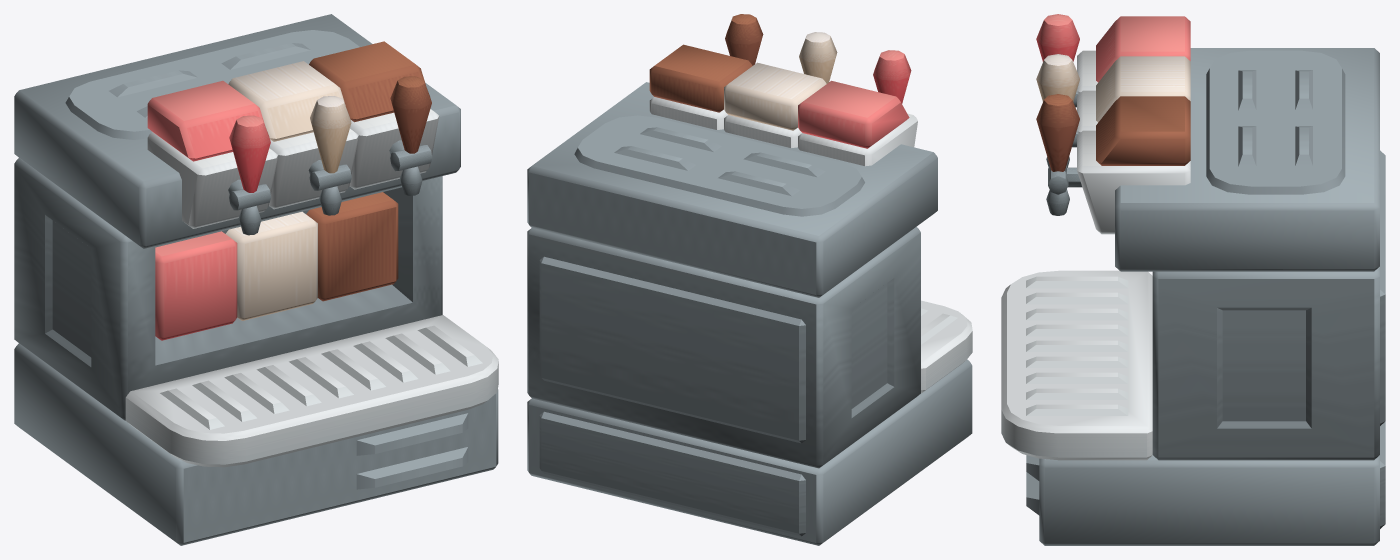
File: restaurant-icecream-machine.gltf
3 renders of one model, left to right at view 1: azimuth 30°, elevation 25°; view 2: azimuth 150°, elevation 25°; view 3: azimuth 270°, elevation 25°, orthographic. The views are drawn at different scales.
Visible parts, largest first — view 1: icecream_machine, icecream_machine_handle_strawberry, icecream_machine_handle_chocolate, icecream_machine_handle_vanilla; view 2: icecream_machine, icecream_machine_handle_strawberry, icecream_machine_handle_chocolate, icecream_machine_handle_vanilla; view 3: icecream_machine, icecream_machine_handle_chocolate, icecream_machine_handle_strawberry, icecream_machine_handle_vanilla.
Part boxes in pixels (box(x1,y1,x2,y2)): icecream_machine: box(14, 14, 498, 545); icecream_machine_handle_strawberry: box(229, 115, 271, 210); icecream_machine_handle_chocolate: box(390, 76, 432, 171); icecream_machine_handle_vanilla: box(309, 96, 351, 190); icecream_machine: box(527, 44, 972, 545); icecream_machine_handle_strawberry: box(873, 50, 911, 103); icecream_machine_handle_chocolate: box(725, 14, 763, 65); icecream_machine_handle_vanilla: box(799, 32, 837, 83); icecream_machine: box(1001, 16, 1385, 545); icecream_machine_handle_chocolate: box(1036, 94, 1079, 194); icecream_machine_handle_strawberry: box(1036, 14, 1079, 61); icecream_machine_handle_vanilla: box(1036, 54, 1079, 101).
Size of the model in its own units: 2 by 2.4 by 2.03.
1 material, 1 textured.
